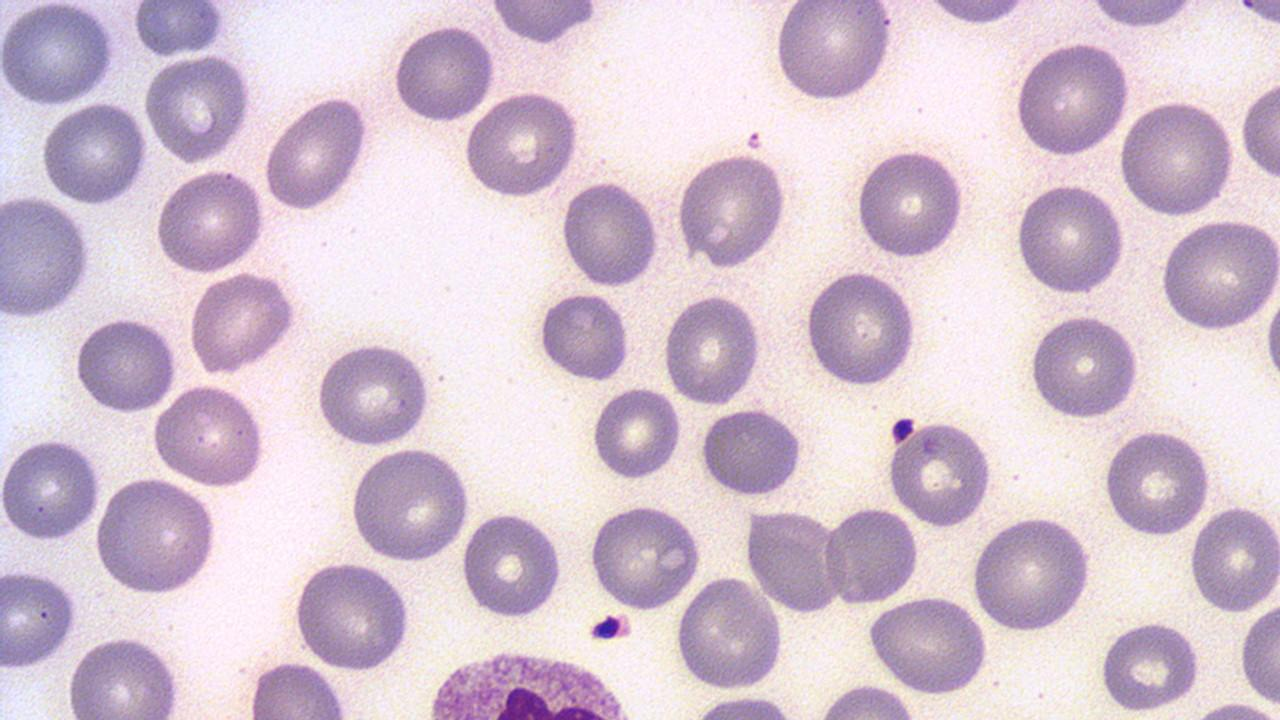Platelets: (888, 414, 916, 446)
RBC: (968, 512, 1096, 636), (93, 475, 221, 596), (1116, 96, 1238, 218), (349, 445, 474, 564), (1012, 37, 1132, 160), (290, 558, 417, 674), (1158, 215, 1280, 333), (674, 148, 791, 271), (803, 267, 919, 391), (852, 143, 970, 262), (862, 591, 992, 697), (312, 338, 436, 449), (1012, 180, 1128, 297), (462, 90, 585, 200), (672, 574, 786, 692), (1024, 312, 1145, 422), (773, 0, 898, 106), (262, 94, 374, 212), (1101, 424, 1215, 538), (587, 501, 703, 613), (150, 382, 269, 490), (885, 416, 998, 528), (142, 53, 253, 166), (152, 167, 269, 274), (0, 191, 94, 323), (1, 2, 119, 107), (186, 269, 301, 376), (660, 290, 764, 406), (37, 101, 150, 207), (461, 508, 567, 620), (560, 175, 662, 289), (0, 433, 102, 545), (743, 505, 845, 614), (391, 22, 496, 126), (63, 631, 188, 716), (1186, 502, 1280, 615), (73, 315, 179, 415), (1095, 617, 1205, 713), (696, 404, 808, 496), (530, 288, 634, 383), (823, 506, 921, 606), (590, 385, 684, 483), (0, 564, 79, 671), (243, 654, 352, 718), (131, 1, 226, 60), (1236, 594, 1280, 708), (1238, 72, 1280, 188), (920, 0, 1038, 29)
WBC: (420, 643, 638, 717)
